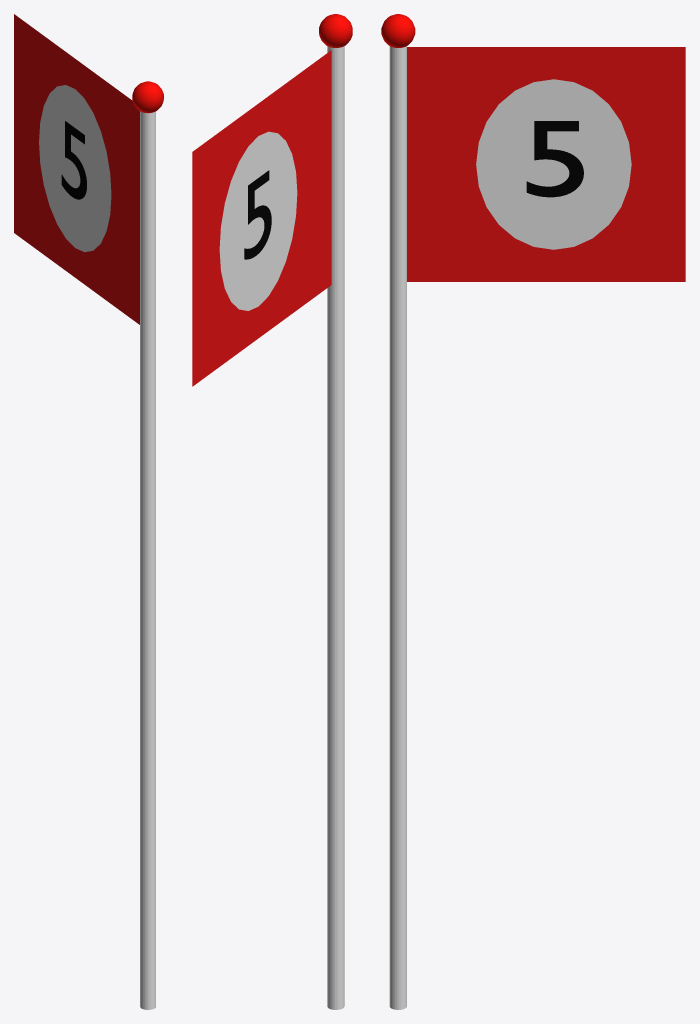
File: Flag 5.fbx
The picture shows the model from 3 angles, left to right: view 1: azimuth 30°, elevation 25°; view 2: azimuth 150°, elevation 25°; view 3: azimuth 270°, elevation 25°; orthographic projection. The views are drawn at different scales.
Visible parts, largest first — view 1: Plane.004, Cylinder.004, Circle.004, 1.008, Sphere.004; view 2: Plane.004, Cylinder.004, Circle.004, 1.008, Sphere.004; view 3: Plane.004, Circle.004, Cylinder.004, 1.009, Sphere.004.
Boxes of the visible parts, x1,y1,x2,y2 form: Plane.004: (14, 14, 139, 324); Cylinder.004: (140, 111, 155, 1009); Circle.004: (39, 85, 111, 252); 1.008: (61, 121, 86, 199); Sphere.004: (132, 81, 163, 113); Plane.004: (192, 50, 331, 386); Cylinder.004: (327, 46, 344, 1009); Circle.004: (219, 131, 297, 310); 1.008: (244, 170, 271, 259); Sphere.004: (319, 14, 352, 47); Plane.004: (407, 47, 685, 281); Circle.004: (476, 79, 631, 249); Cylinder.004: (389, 46, 406, 1009); 1.009: (526, 121, 583, 197); Sphere.004: (381, 14, 415, 47).
Bounding box in the file's own units: 3.94 × 127 × 35.22.
